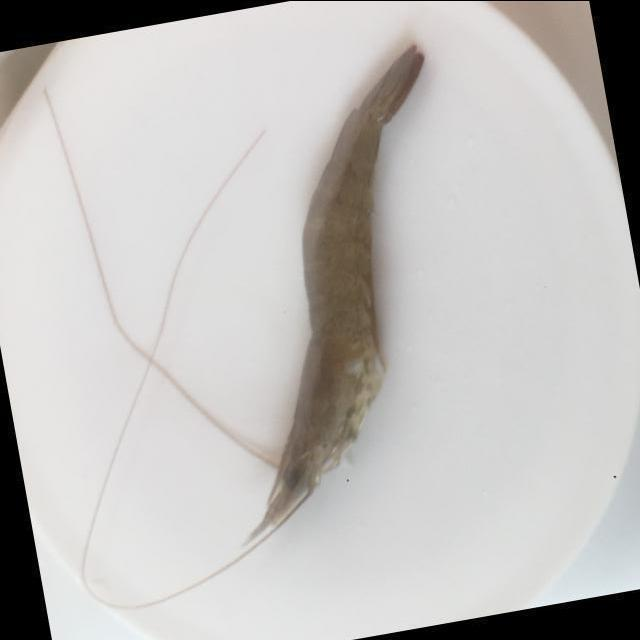shrimp: (246, 45, 423, 544)
